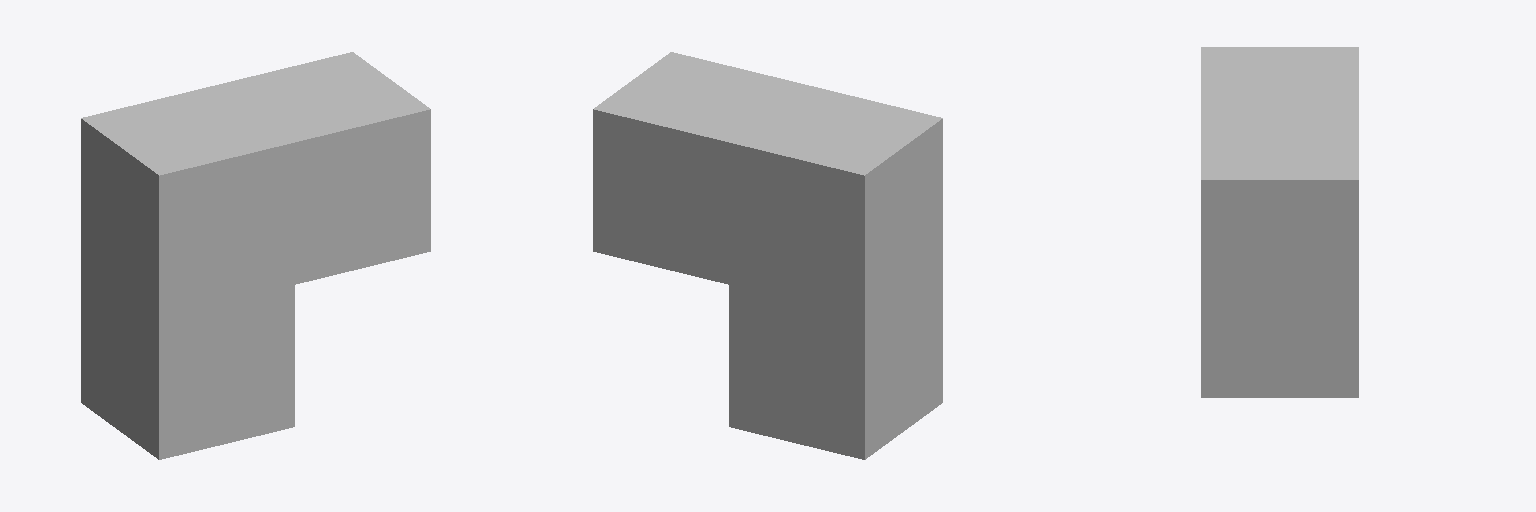
File: Weapons-17-1911 Trigger.obj
3 renders of one model, left to right at view 1: azimuth 30°, elevation 25°; view 2: azimuth 150°, elevation 25°; view 3: azimuth 270°, elevation 25°, orthographic.
Parts seen in each view (by area): view 1: 1911 Trigger; view 2: 1911 Trigger; view 3: 1911 Trigger.
Boxes of the visible parts, x1,y1,x2,y2 form: 1911 Trigger: [81, 52, 430, 459]; 1911 Trigger: [593, 52, 942, 459]; 1911 Trigger: [1201, 47, 1358, 397].
Size of the model in its own units: 0.2 by 0.2 by 0.1.